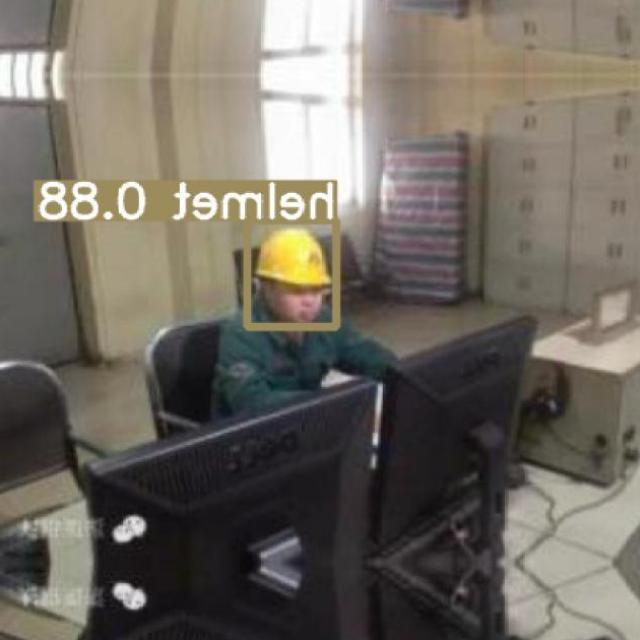helmet: (254, 226, 333, 288)
